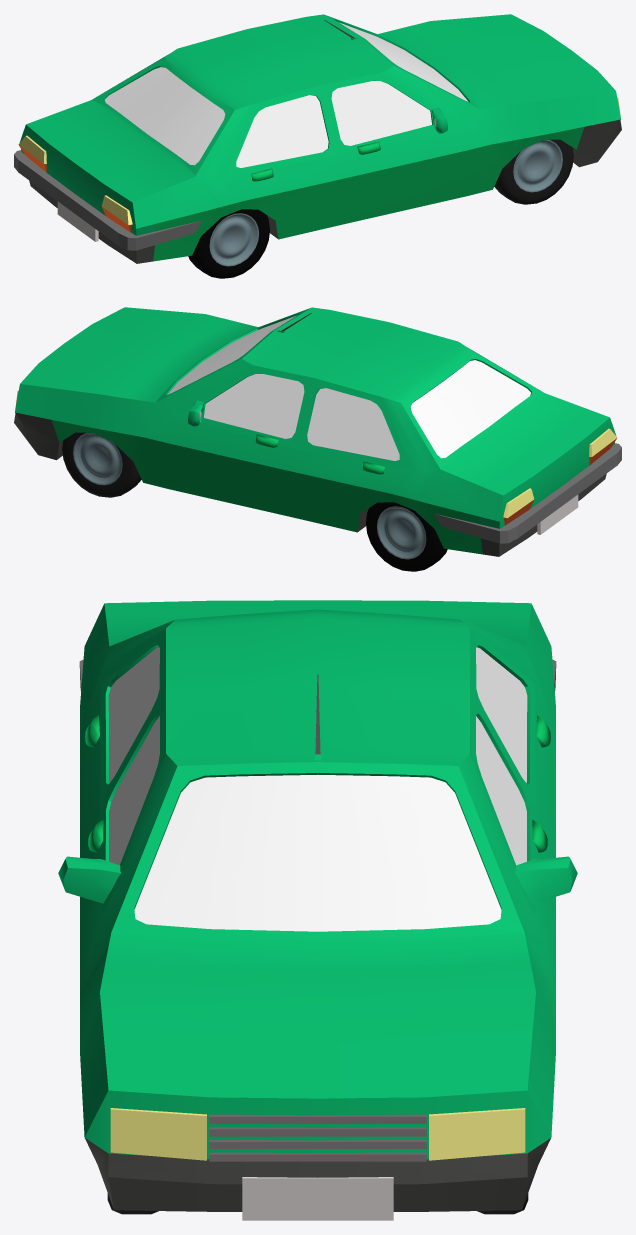
File: carro.fbx
3 renders of one model, top to bottom at view 1: azimuth 30°, elevation 25°; view 2: azimuth 150°, elevation 25°; view 3: azimuth 270°, elevation 25°, orthographic. The views are drawn at different scales.
Parts seen in each view (by area): view 1: Transport4; view 2: Transport4; view 3: Transport4.
Boxes of the visible parts, box(x1,y1,x2,y2) form: Transport4: box(14, 14, 621, 278); Transport4: box(14, 307, 621, 571); Transport4: box(58, 600, 577, 1220).
Size of the model in its own units: 310 by 109 by 137.
2 materials, 2 textured.
